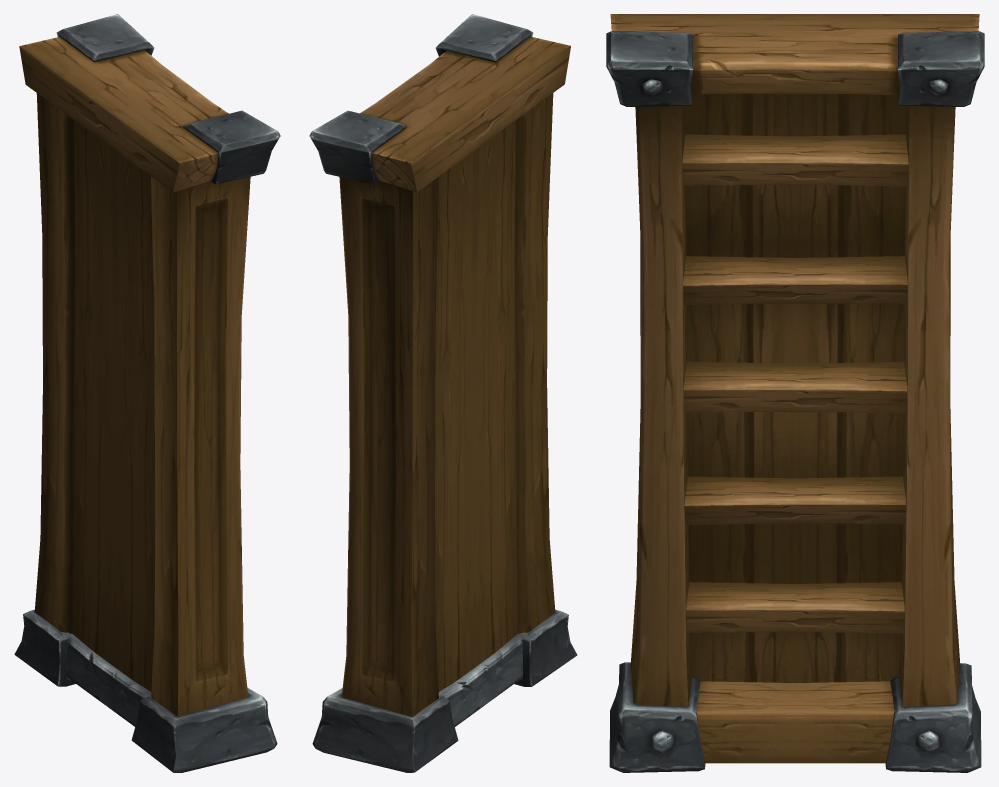
The picture shows the model from 3 angles, left to right: view 1: azimuth 30°, elevation 25°; view 2: azimuth 150°, elevation 25°; view 3: azimuth 270°, elevation 25°; orthographic projection. The views are drawn at different scales.
Bounding box in the file's own units: 1.06 × 5.76 × 2.77.
3 materials, 3 textured.
